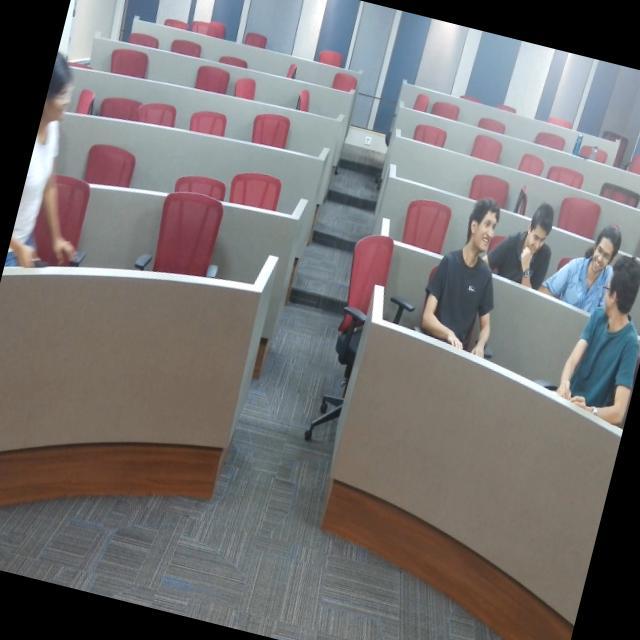cheating: (559, 254, 640, 437)
